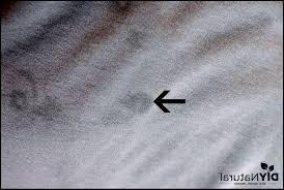oil: (101, 88, 154, 130)
